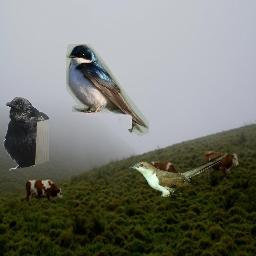Crow: (2, 96, 49, 171)
Cuckoo: (129, 152, 227, 197)
Swallow: (66, 44, 149, 138)
